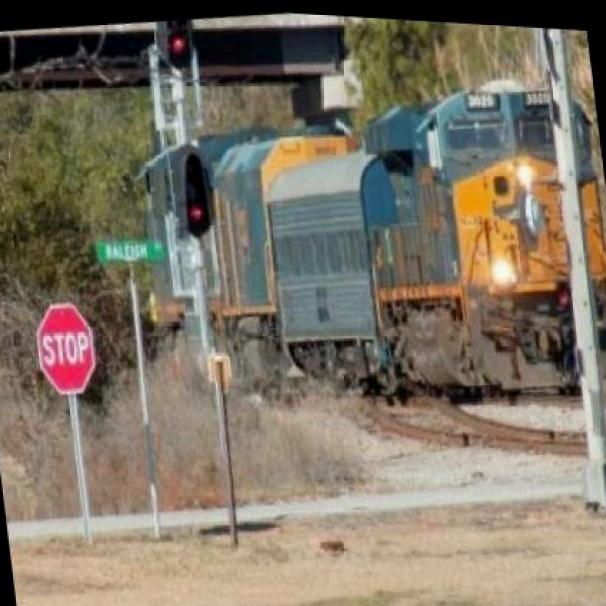stop_sign: (34, 294, 101, 396)
